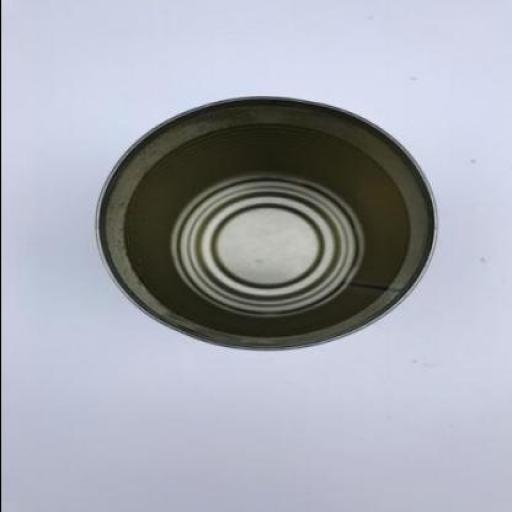metal: (96, 96, 438, 350)
